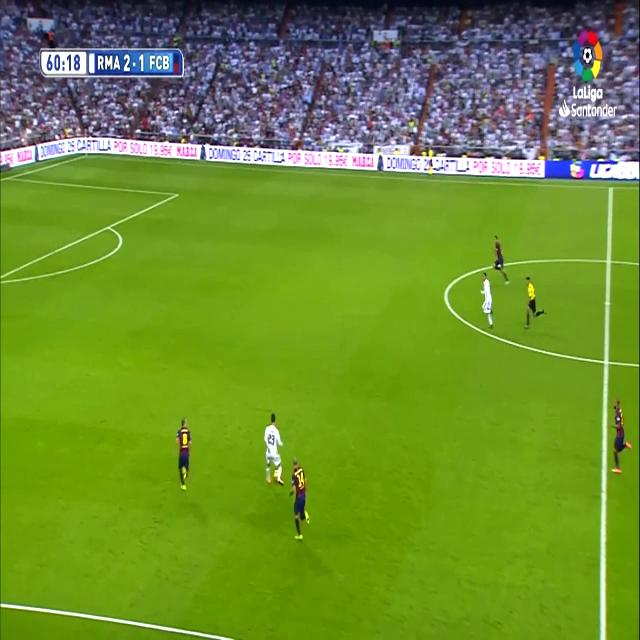bigarea_bottom_outter: (105, 218, 113, 234)
halfcircle_bottom: (598, 342, 614, 381)
halfcircle_top: (602, 244, 616, 276)
midline_top_intersection: (605, 182, 617, 198)
